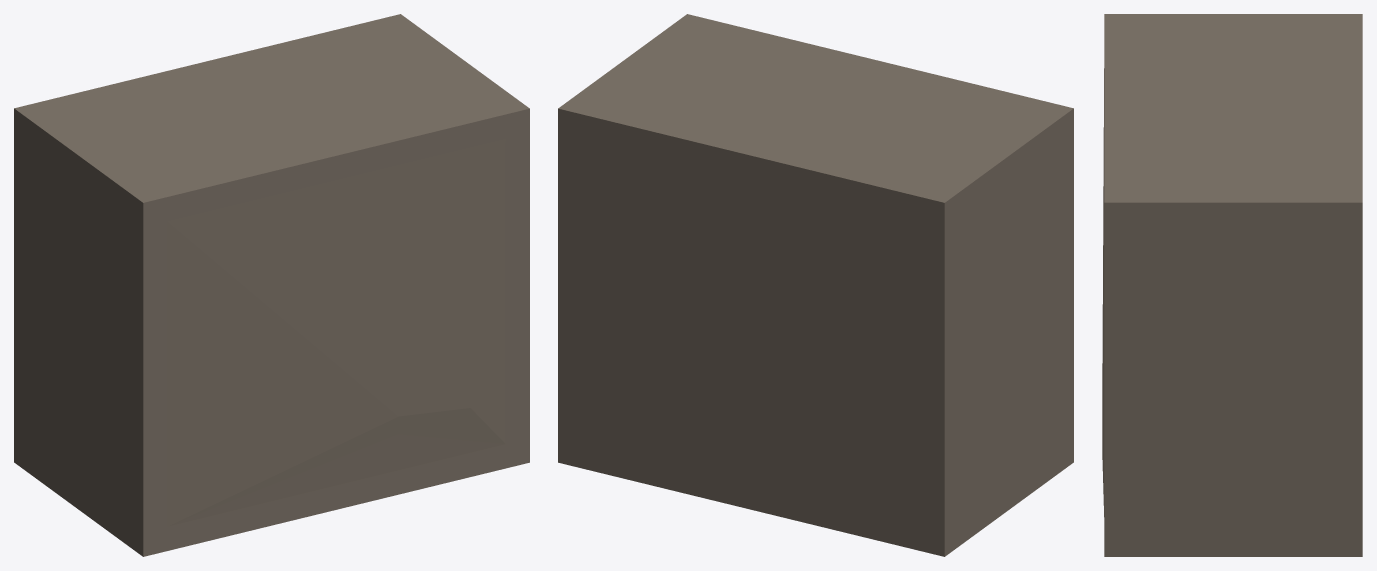
File: wood_wall_box.glb
3 views of the same model, side by side, from view 1: azimuth 30°, elevation 25°; view 2: azimuth 150°, elevation 25°; view 3: azimuth 270°, elevation 25° (orthographic).
Parts seen in each view (by area): view 1: wood_wall_box; view 2: wood_wall_box; view 3: wood_wall_box.
Boxes of the visible parts, box(x1,y1,x2,y2) form: wood_wall_box: box(14, 14, 529, 556); wood_wall_box: box(558, 14, 1073, 556); wood_wall_box: box(1102, 14, 1362, 556).
Size of the model in its own units: 0.48 by 0.42 by 0.28.
